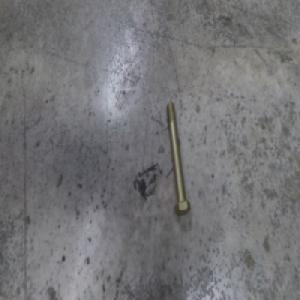Bolt: (164, 105, 189, 217)
